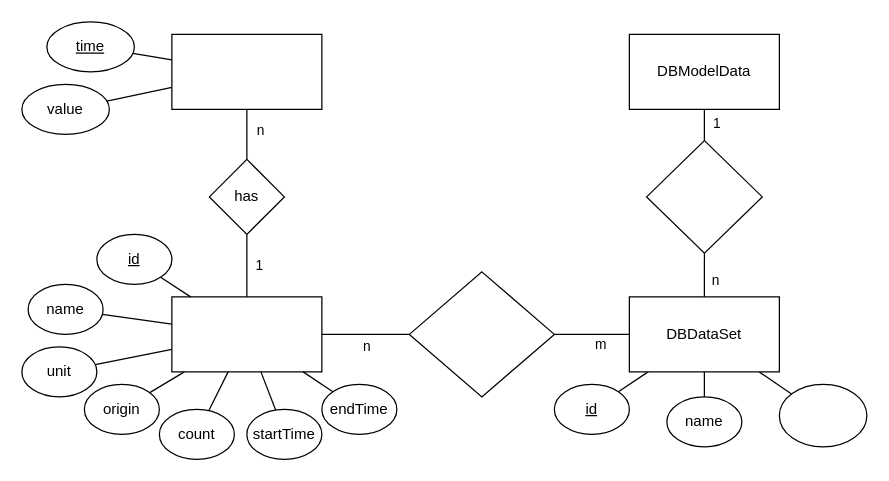
Some shapes in this 889 by 481 pixel diagram are drawn without their labels. The shapes that lost their labels are listed below. From the top down, each one's box as (x1, y1, x2, y2) in pixels, then its label:
(171, 33, 322, 109): DBDataPoint
(645, 139, 762, 253): DBDatasetTo DataModel
(171, 296, 322, 372): DBDataSeries
(408, 271, 554, 397): DBDatasetTo DataSeries
(778, 383, 867, 447): description
